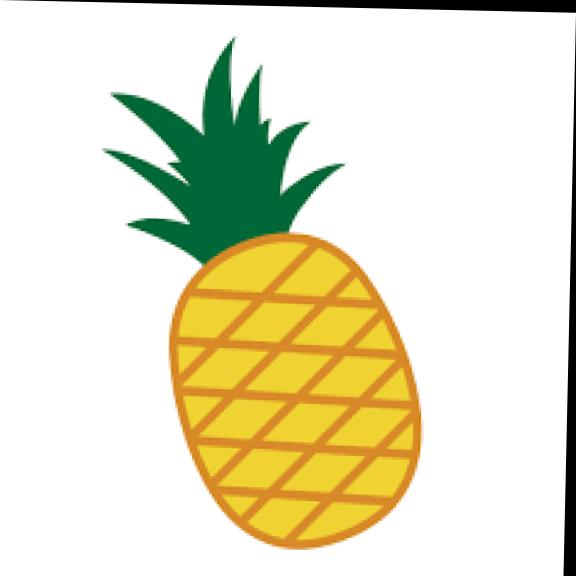Plastik: (109, 32, 435, 537)
